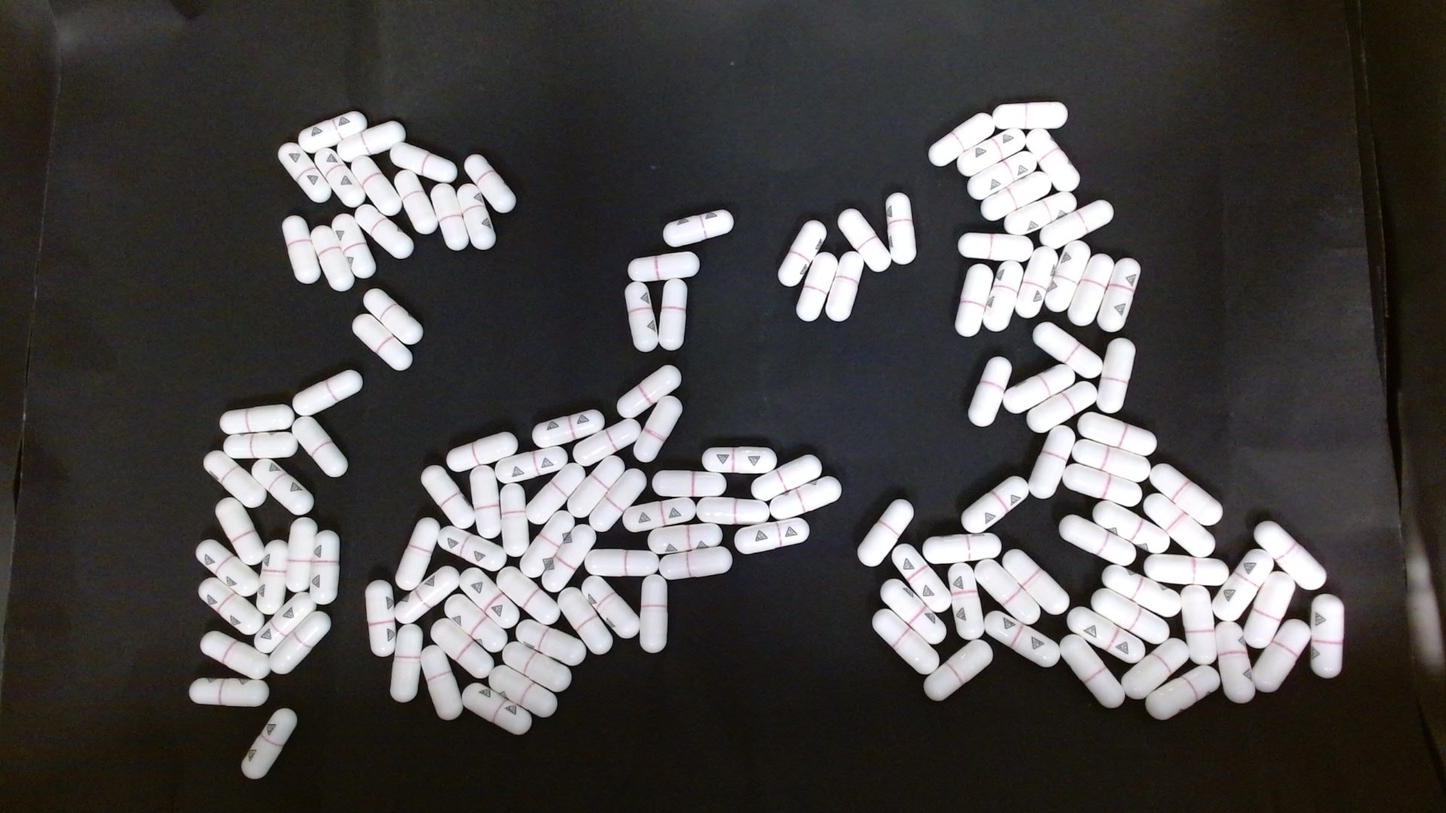Capsule: (1146, 460, 1225, 528), (1255, 516, 1327, 588), (1142, 491, 1216, 560), (1065, 606, 1150, 665), (1211, 548, 1274, 625), (1118, 638, 1191, 704), (972, 558, 1042, 626), (880, 576, 948, 646), (1097, 563, 1181, 619), (1089, 587, 1170, 645), (873, 607, 941, 676), (1002, 550, 1071, 618), (442, 585, 508, 655), (429, 616, 499, 682), (1059, 634, 1124, 705), (983, 609, 1061, 668), (1091, 499, 1170, 557), (1251, 616, 1311, 692), (890, 542, 952, 615), (959, 474, 1033, 535), (1031, 319, 1105, 380), (922, 638, 993, 701), (1022, 379, 1100, 436), (1239, 572, 1296, 649), (495, 562, 561, 628), (563, 457, 627, 525), (1058, 513, 1137, 568), (390, 564, 461, 625), (517, 508, 578, 579), (523, 463, 585, 532), (539, 522, 600, 592), (557, 584, 615, 657), (253, 590, 319, 654), (455, 566, 521, 630), (579, 574, 642, 641), (1038, 198, 1114, 253), (1143, 664, 1216, 721), (588, 467, 650, 534), (979, 168, 1053, 224), (1003, 361, 1081, 414), (214, 493, 269, 568), (856, 497, 914, 568), (266, 611, 330, 675), (202, 449, 268, 510), (1021, 127, 1082, 193), (349, 312, 415, 373), (500, 639, 572, 694), (194, 538, 260, 598), (462, 681, 535, 735), (487, 663, 558, 718), (966, 148, 1037, 203), (1001, 189, 1079, 239), (197, 577, 264, 635), (419, 464, 474, 534), (353, 200, 415, 262), (251, 455, 315, 515), (362, 287, 425, 347), (197, 630, 271, 681), (290, 415, 348, 480), (927, 112, 995, 167), (513, 617, 589, 666), (750, 453, 823, 504), (572, 416, 642, 469), (242, 708, 295, 778), (436, 524, 509, 574), (767, 474, 843, 522), (314, 146, 371, 209), (1063, 462, 1142, 507), (276, 142, 332, 205), (1027, 426, 1076, 498), (1069, 253, 1116, 328), (346, 154, 401, 218), (1097, 256, 1141, 336), (837, 207, 890, 273), (615, 364, 681, 417), (291, 369, 362, 418), (956, 127, 1027, 176), (1045, 240, 1091, 315), (1069, 437, 1149, 480), (1143, 550, 1231, 589), (634, 394, 683, 464), (1077, 412, 1156, 455), (968, 351, 1012, 428), (1097, 337, 1139, 417), (1213, 624, 1256, 702), (395, 516, 439, 592), (1015, 245, 1060, 318), (419, 642, 461, 720), (394, 169, 442, 237), (335, 120, 407, 165), (463, 154, 516, 215), (780, 219, 827, 287), (792, 251, 837, 321), (280, 215, 324, 286), (1179, 585, 1218, 665), (310, 223, 355, 292), (494, 444, 569, 485), (944, 563, 985, 638), (297, 111, 368, 154), (1308, 593, 1344, 677), (388, 141, 458, 184), (330, 213, 375, 279), (982, 259, 1025, 328), (732, 518, 811, 555), (446, 431, 518, 471), (456, 182, 497, 252), (919, 531, 1003, 565), (255, 537, 291, 616), (663, 208, 734, 248), (955, 263, 993, 337), (431, 182, 472, 250), (621, 495, 696, 532), (532, 410, 603, 449), (825, 251, 864, 322), (306, 530, 343, 604), (658, 545, 734, 581), (389, 623, 423, 703), (285, 516, 319, 592), (189, 675, 269, 707), (364, 580, 397, 656), (470, 464, 504, 537), (647, 522, 724, 554), (629, 249, 702, 282), (224, 428, 301, 459), (991, 99, 1067, 130), (624, 281, 657, 352), (221, 403, 294, 435), (657, 277, 688, 352), (639, 576, 669, 653), (959, 231, 1033, 262), (702, 446, 780, 475), (585, 547, 662, 576), (497, 482, 527, 556), (885, 193, 916, 264), (695, 497, 770, 526), (651, 470, 725, 499)
